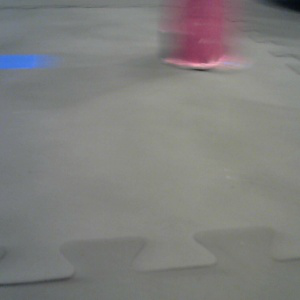Right: (156, 1, 221, 72)
